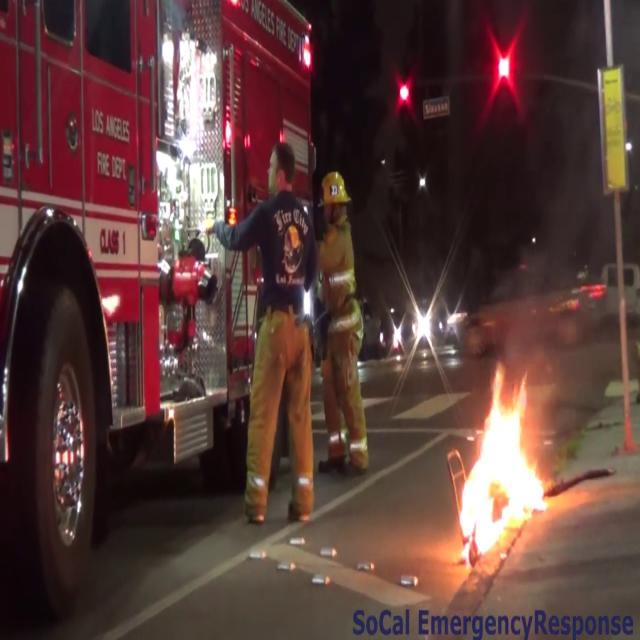Fire: (448, 358, 556, 558)
Smoke: (512, 92, 634, 362)
